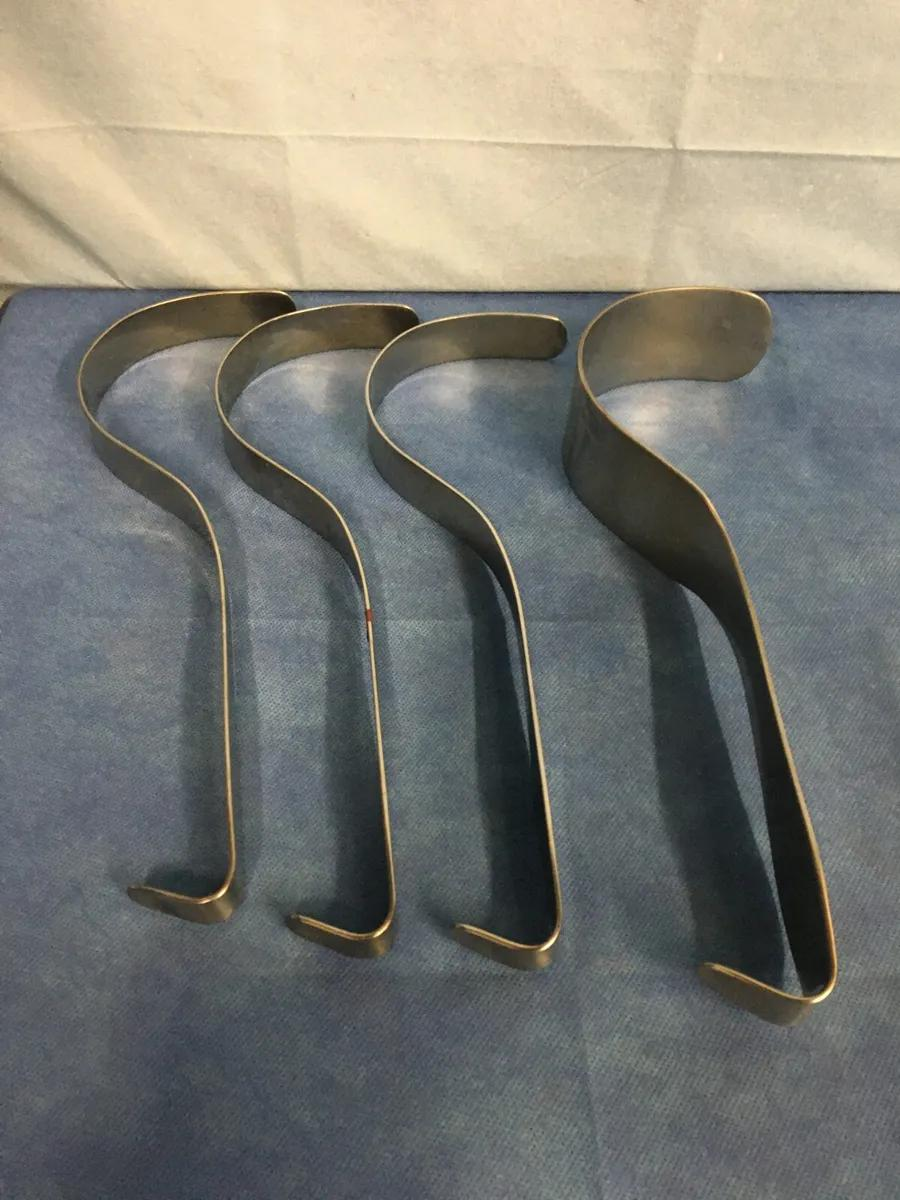Deaver Retractor: (577, 287, 858, 1035), (58, 278, 293, 915), (355, 303, 573, 968), (208, 297, 425, 962)
